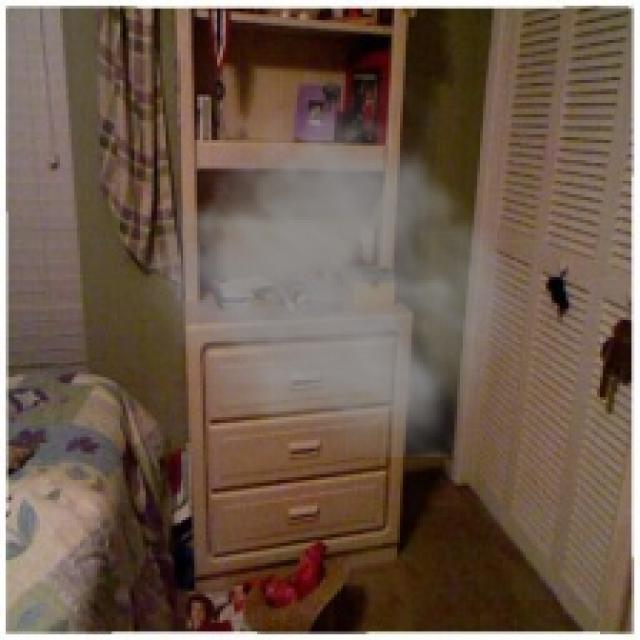Smoke: (131, 69, 540, 458)
